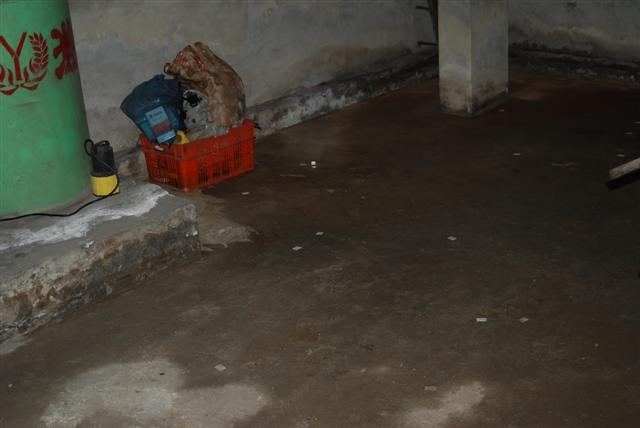box: (137, 122, 265, 195)
